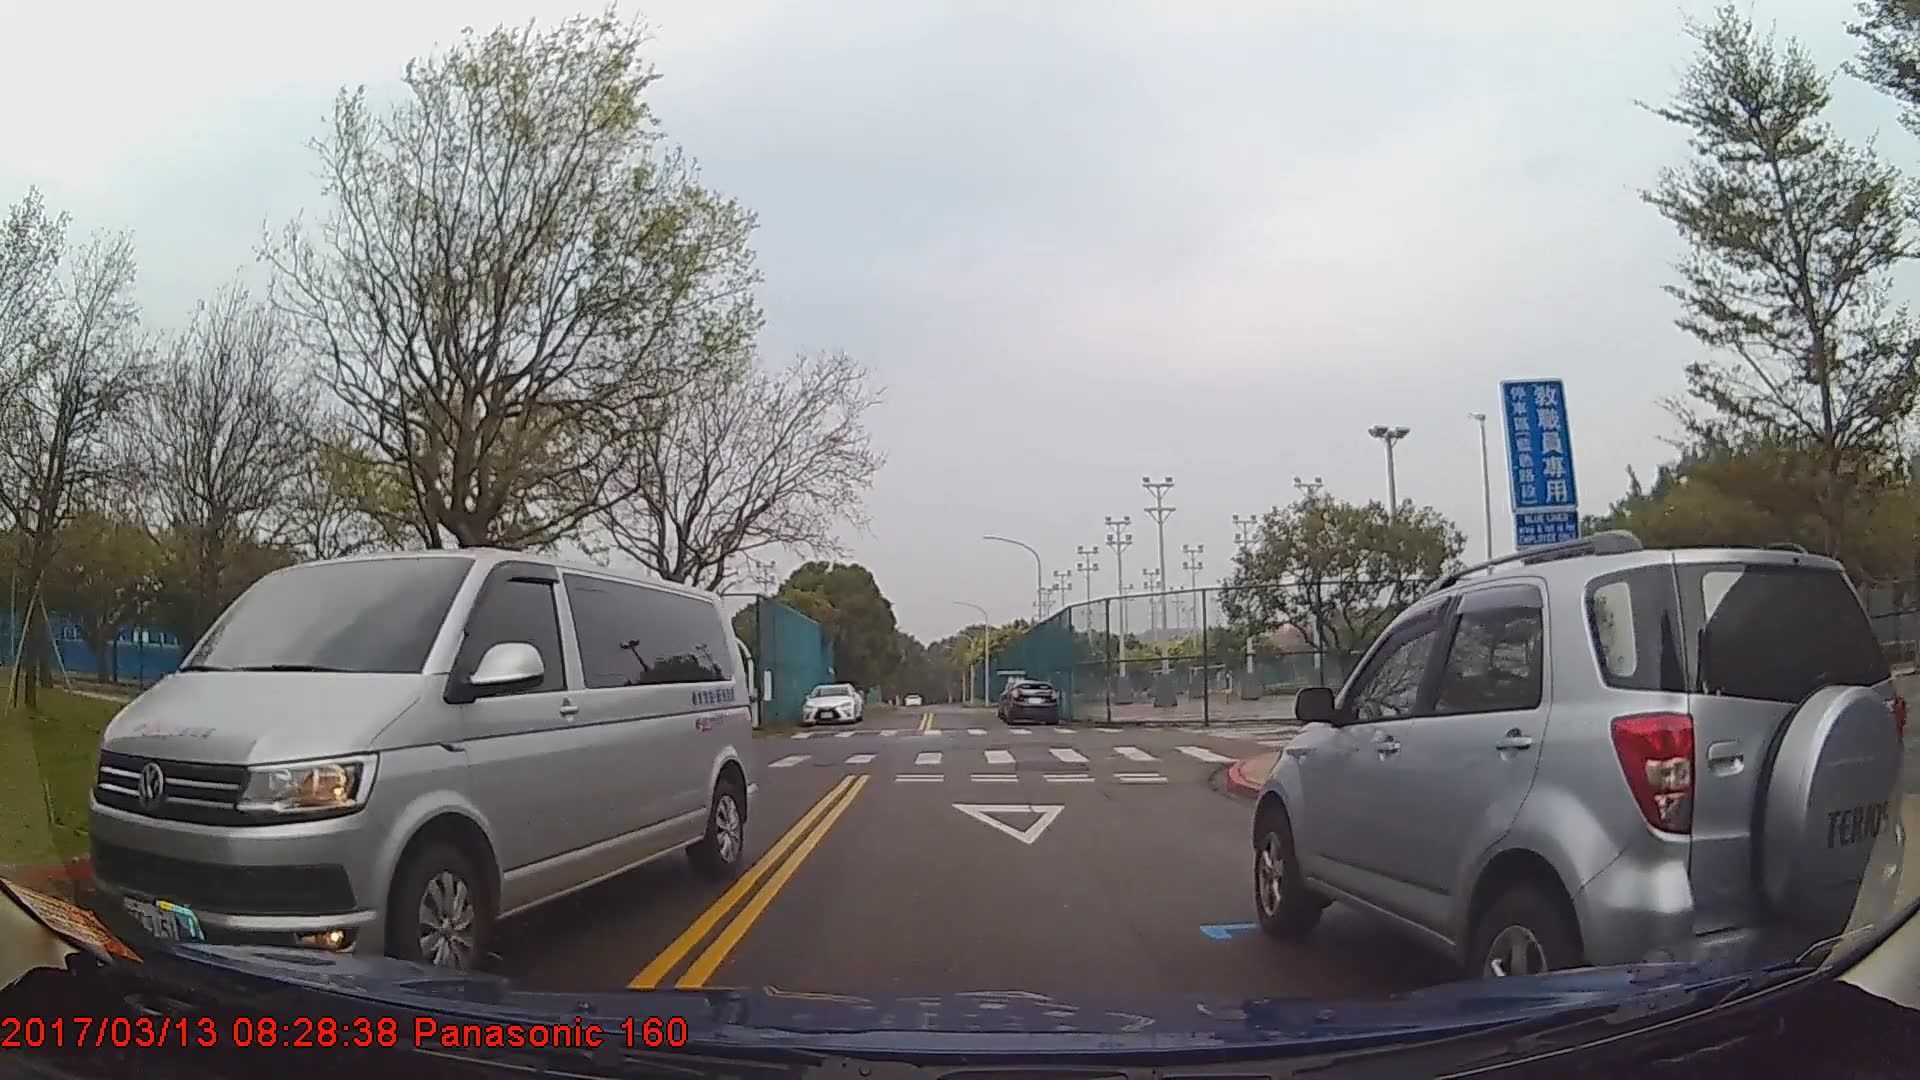vehicle: (1251, 545, 1907, 1033), (84, 545, 756, 986), (799, 680, 861, 725), (1002, 680, 1058, 727)
